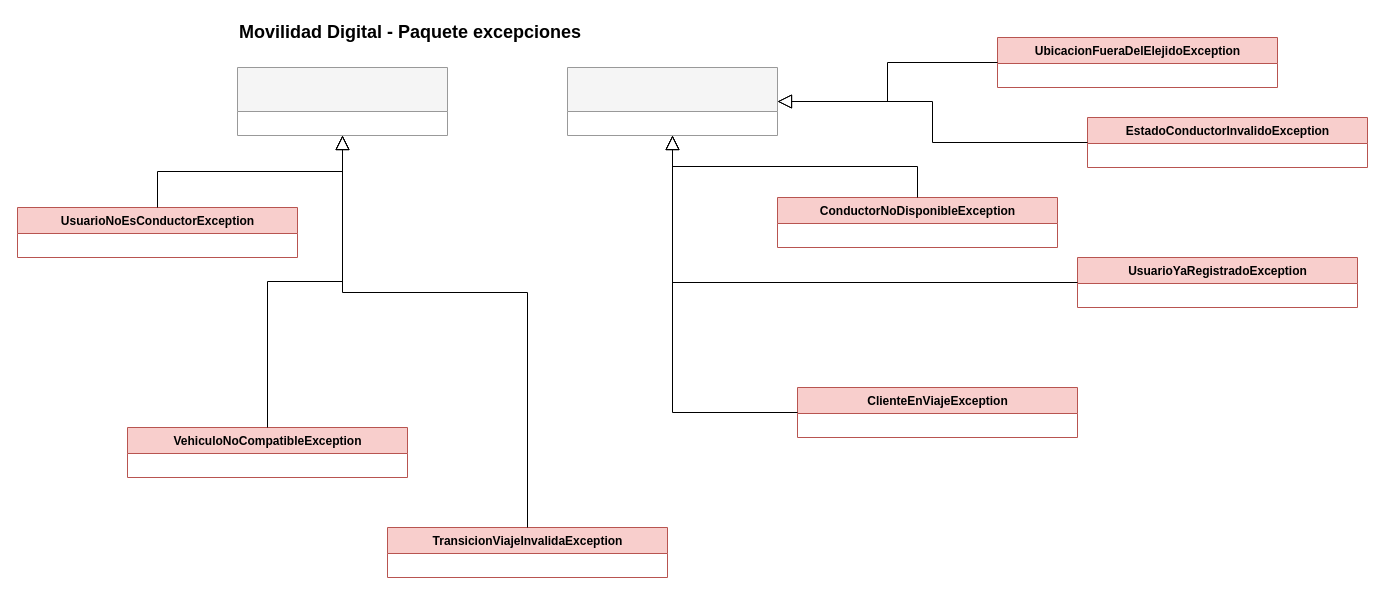
The diagram is 1385 pixels wide and 595 high, and some of its shapes have lost their labels. The shapes that lost their labels are listed below. From the top down, each one's centre as x and y in pixels, then its label:
the point at 342,101: IllegalStateException (java.lang)
the point at 672,101: RuntimeException (java.lang)
